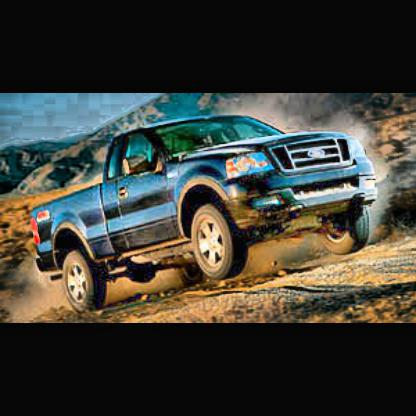Ford F-150 Regular Cab 2007: (29, 111, 383, 313)
